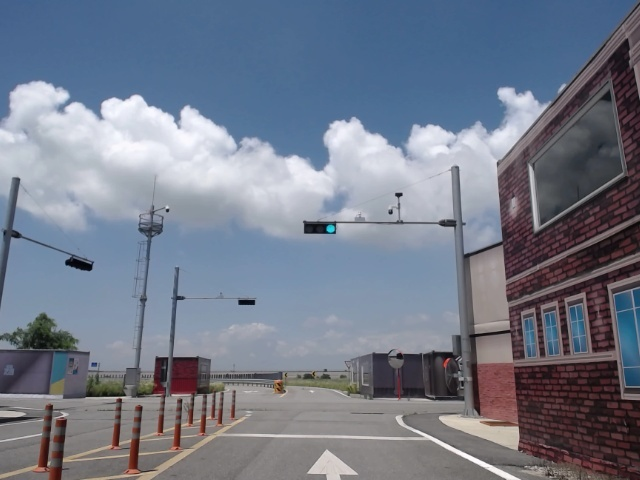green_3: (304, 223, 336, 233)
